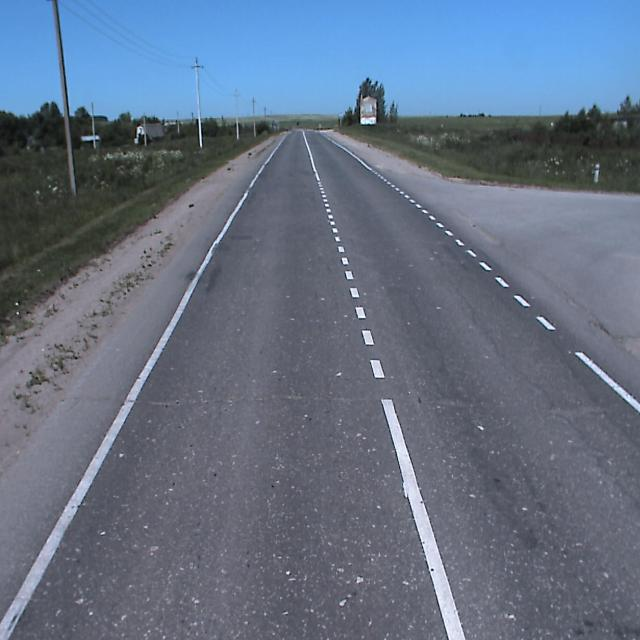road: (0, 129, 639, 639)
